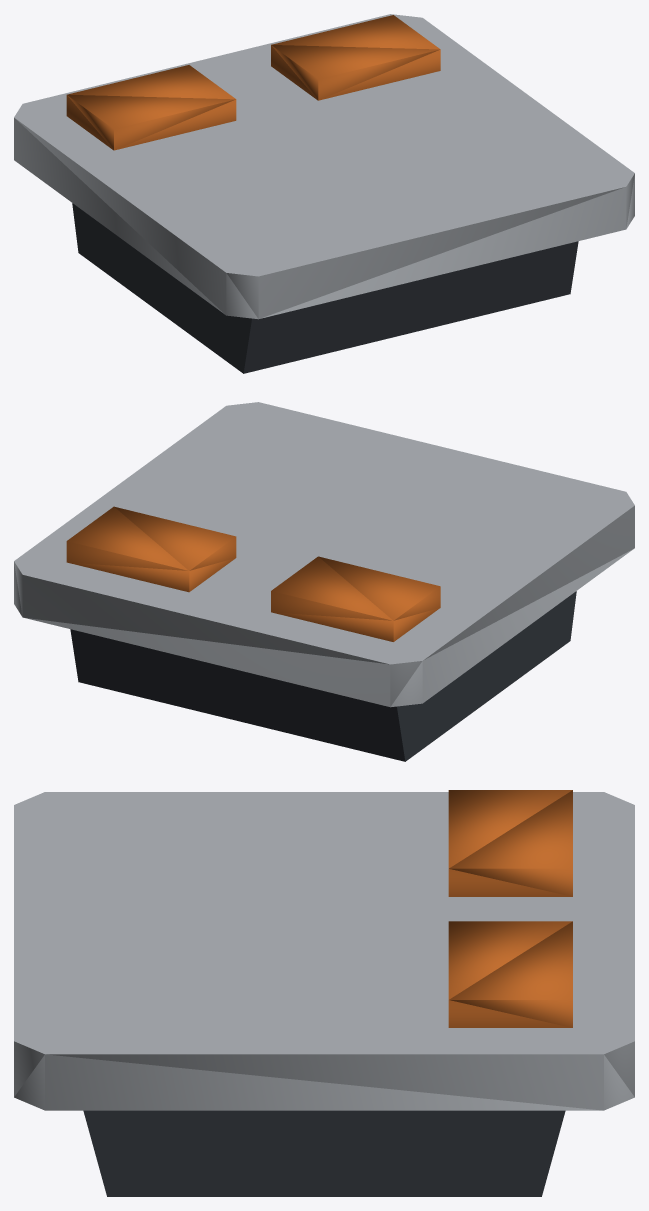
The model's file is Kit_bed-double.fbx.
The picture shows the model from 3 angles, top to bottom: view 1: azimuth 30°, elevation 25°; view 2: azimuth 150°, elevation 25°; view 3: azimuth 270°, elevation 25°; orthographic projection. The views are drawn at different scales.
Parts seen in each view (by area): view 1: Kit_bed-double; view 2: Kit_bed-double; view 3: Kit_bed-double.
Boxes of the visible parts, box(x1,y1,x2,y2) form: Kit_bed-double: box(14, 14, 634, 373); Kit_bed-double: box(14, 402, 634, 761); Kit_bed-double: box(14, 790, 634, 1196).
Size of the model in its own units: 1 by 0.35 by 1.
